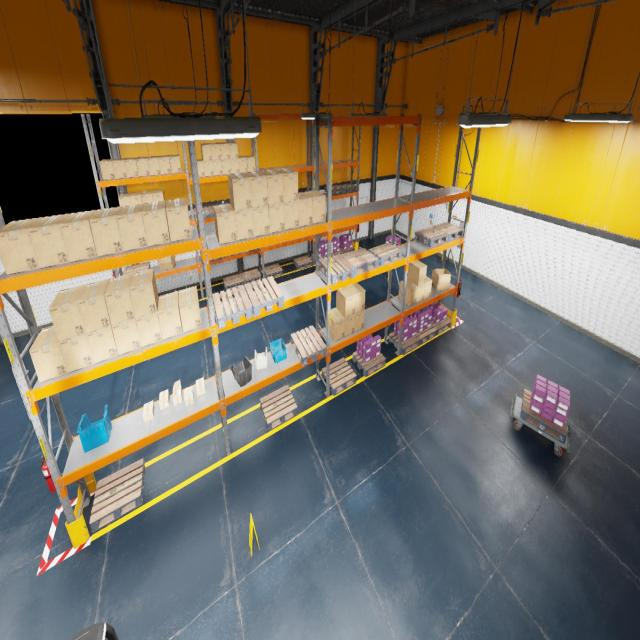box: (0, 217, 41, 275), (28, 214, 69, 268), (48, 284, 86, 342), (29, 326, 67, 383), (59, 210, 97, 262), (77, 279, 111, 333), (89, 206, 123, 256), (104, 274, 135, 326), (116, 204, 148, 252), (129, 268, 158, 318), (58, 334, 94, 373), (142, 200, 170, 247), (86, 326, 118, 364), (158, 291, 182, 340), (178, 286, 202, 332), (166, 198, 191, 242), (111, 319, 141, 355), (213, 203, 237, 244), (135, 312, 162, 347), (228, 172, 252, 210), (244, 171, 268, 207), (260, 170, 284, 204), (276, 168, 298, 202), (304, 190, 326, 223), (326, 307, 345, 341), (336, 286, 356, 317), (234, 208, 253, 240), (398, 278, 418, 306), (252, 206, 269, 237), (407, 260, 427, 286), (348, 283, 365, 313), (268, 203, 285, 233), (298, 192, 312, 226), (284, 200, 299, 230), (432, 268, 451, 290), (408, 279, 425, 302), (340, 312, 355, 336), (99, 159, 115, 179), (112, 158, 127, 178), (124, 157, 138, 178), (136, 156, 150, 176), (147, 156, 161, 175), (158, 256, 176, 270), (158, 155, 171, 174), (143, 400, 154, 422), (173, 380, 182, 406), (354, 309, 364, 332), (170, 155, 182, 173), (218, 142, 230, 160), (423, 276, 432, 299), (244, 155, 256, 172), (184, 386, 194, 406), (159, 390, 169, 410), (200, 144, 212, 160), (210, 143, 221, 160), (203, 160, 214, 177), (227, 142, 238, 158), (196, 378, 205, 397), (118, 193, 131, 206), (238, 156, 248, 172), (152, 189, 164, 202), (141, 190, 153, 203), (221, 159, 231, 174), (212, 160, 222, 175), (130, 192, 142, 204), (230, 158, 239, 173), (197, 160, 204, 178)
forklift: (70, 622, 119, 640)
pallets: (89, 458, 145, 532), (520, 389, 567, 443), (260, 384, 297, 432), (212, 285, 252, 329), (244, 276, 284, 317), (291, 326, 326, 366), (322, 358, 356, 396), (319, 254, 355, 284), (341, 248, 378, 274), (352, 351, 386, 377), (369, 243, 402, 266), (389, 332, 420, 355), (414, 227, 448, 247), (432, 222, 464, 241), (223, 273, 244, 291), (123, 261, 150, 275), (416, 326, 436, 344), (431, 318, 451, 336), (241, 268, 261, 284), (200, 250, 222, 264), (264, 263, 283, 279), (194, 206, 214, 220), (294, 256, 312, 270), (211, 203, 228, 216), (338, 183, 357, 193), (324, 186, 344, 194), (222, 252, 242, 258), (310, 254, 326, 261), (244, 248, 260, 254), (340, 247, 354, 253), (331, 250, 342, 256)
